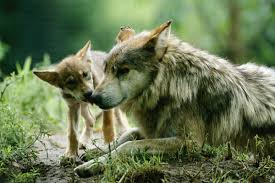Lobo: (93, 20, 266, 139), (26, 38, 99, 147)
